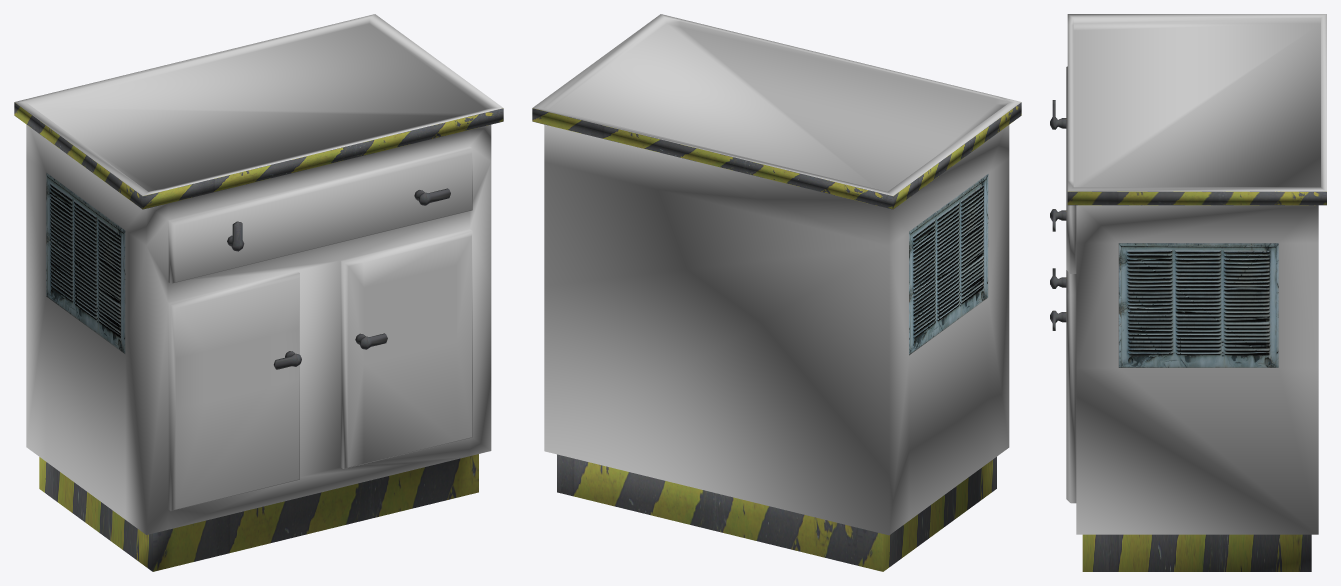
The model's file is ElectricBox.fbx.
3 renders of one model, left to right at view 1: azimuth 30°, elevation 25°; view 2: azimuth 150°, elevation 25°; view 3: azimuth 270°, elevation 25°, orthographic.
Parts seen in each view (by area): view 1: Mesh_Object; view 2: Mesh_Object; view 3: Mesh_Object.
Boxes of the visible parts, x1,y1,x2,y2 form: Mesh_Object: (14,14,503,571); Mesh_Object: (532,14,1021,571); Mesh_Object: (1050,14,1326,571).
Bounding box in the file's own units: 1.44 × 1.47 × 0.9491.
